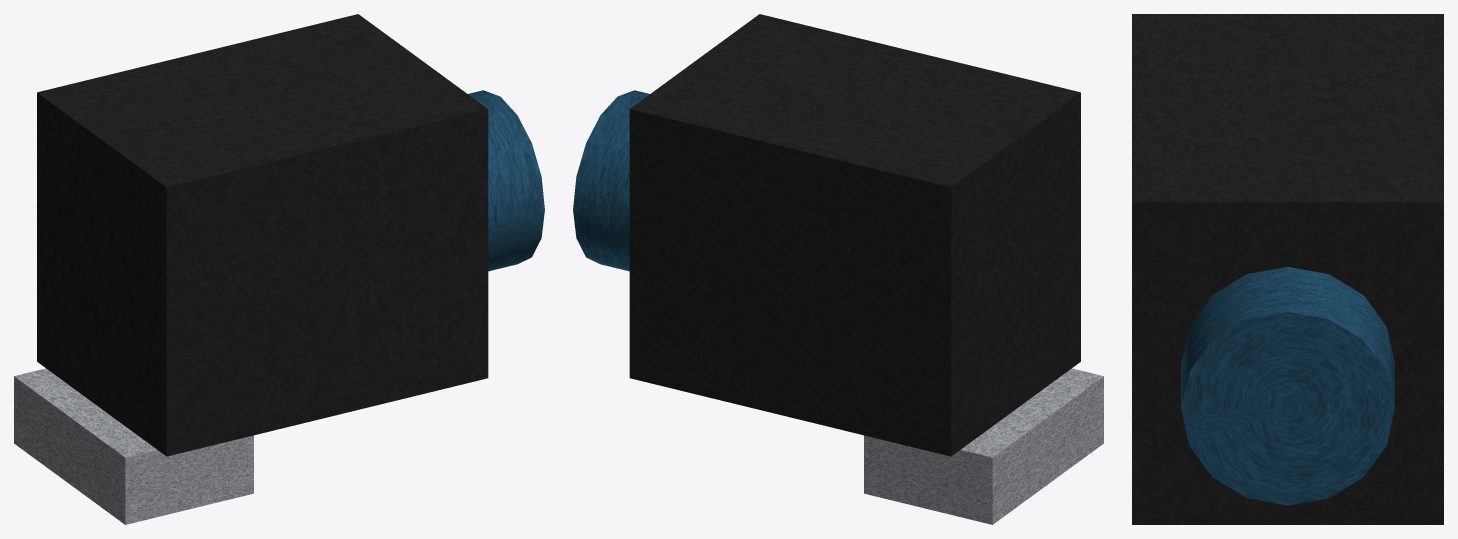
Rendered from camera.obj.
The picture shows the model from 3 angles, left to right: view 1: azimuth 30°, elevation 25°; view 2: azimuth 150°, elevation 25°; view 3: azimuth 270°, elevation 25°; orthographic projection. The views are drawn at different scales.
Bounding box in the file's own units: 0.067 × 0.05 × 0.035.
Materials: 3 (3 with a texture image).
